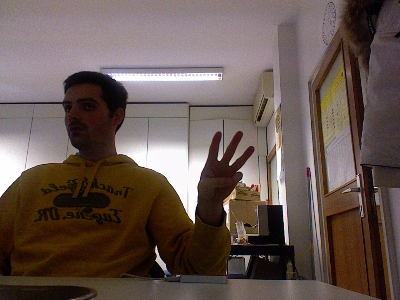三分: (195, 127, 256, 203)
